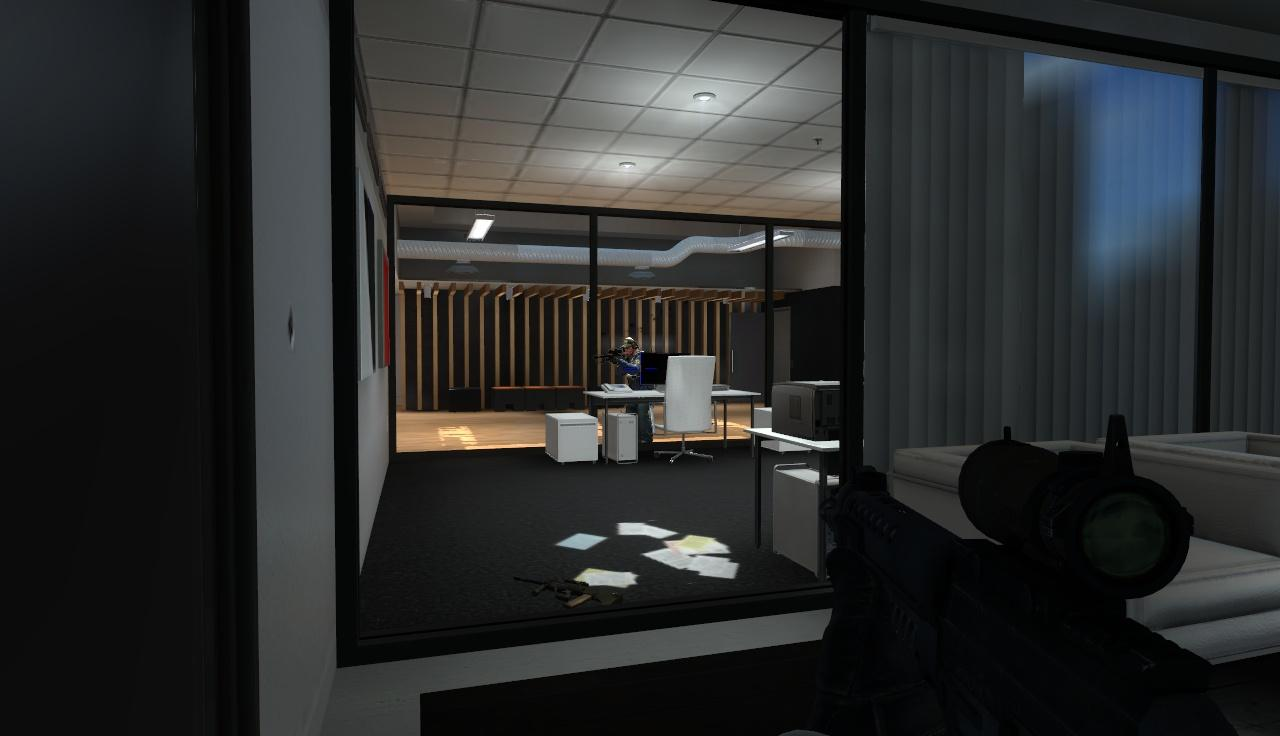ct: (617, 336, 642, 390)
cthead: (622, 337, 637, 355)
rifle: (822, 421, 1280, 736)
